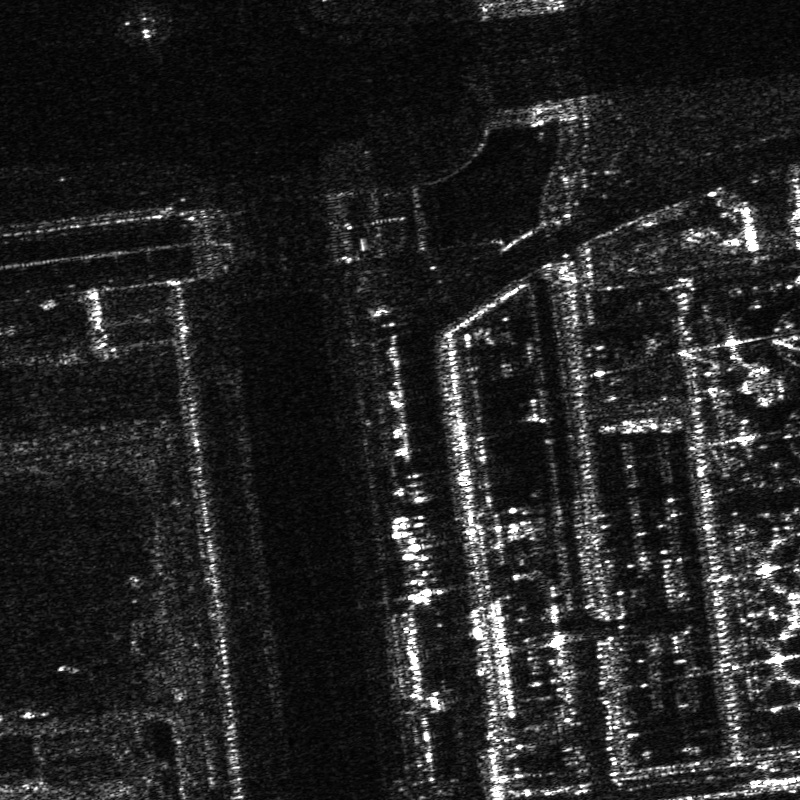A330: (119, 1, 168, 44)
